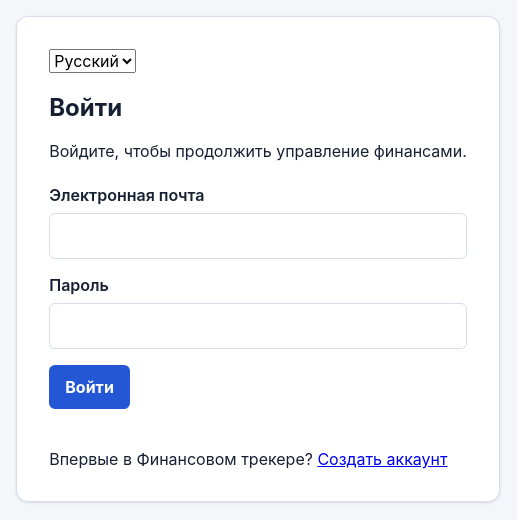
it: switches the public sign-in page from Russian to English and persists the selection
Expected: the heading "Войти" is shown, [49,92,122,122]
Select "English" in the dropdown named "Язык": (93, 61) [49,49,136,73]
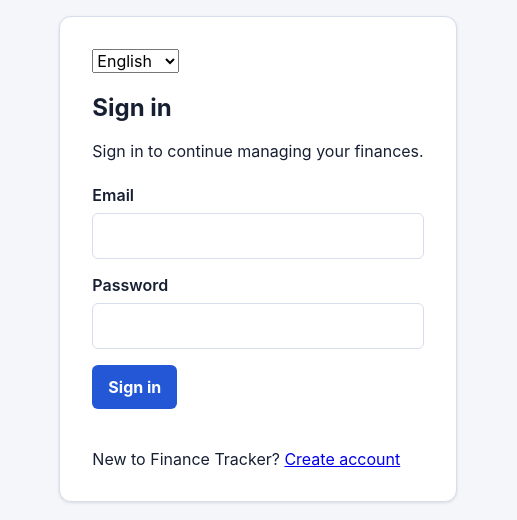
Now the heading "Sign in" is shown, box [92,92,172,122]
